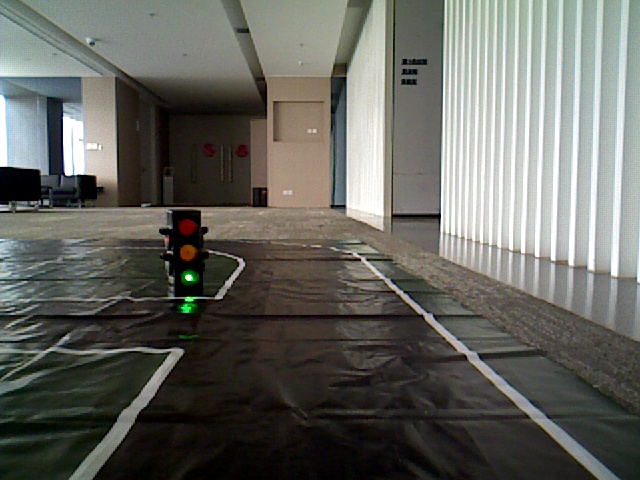green: (170, 214, 199, 284)
